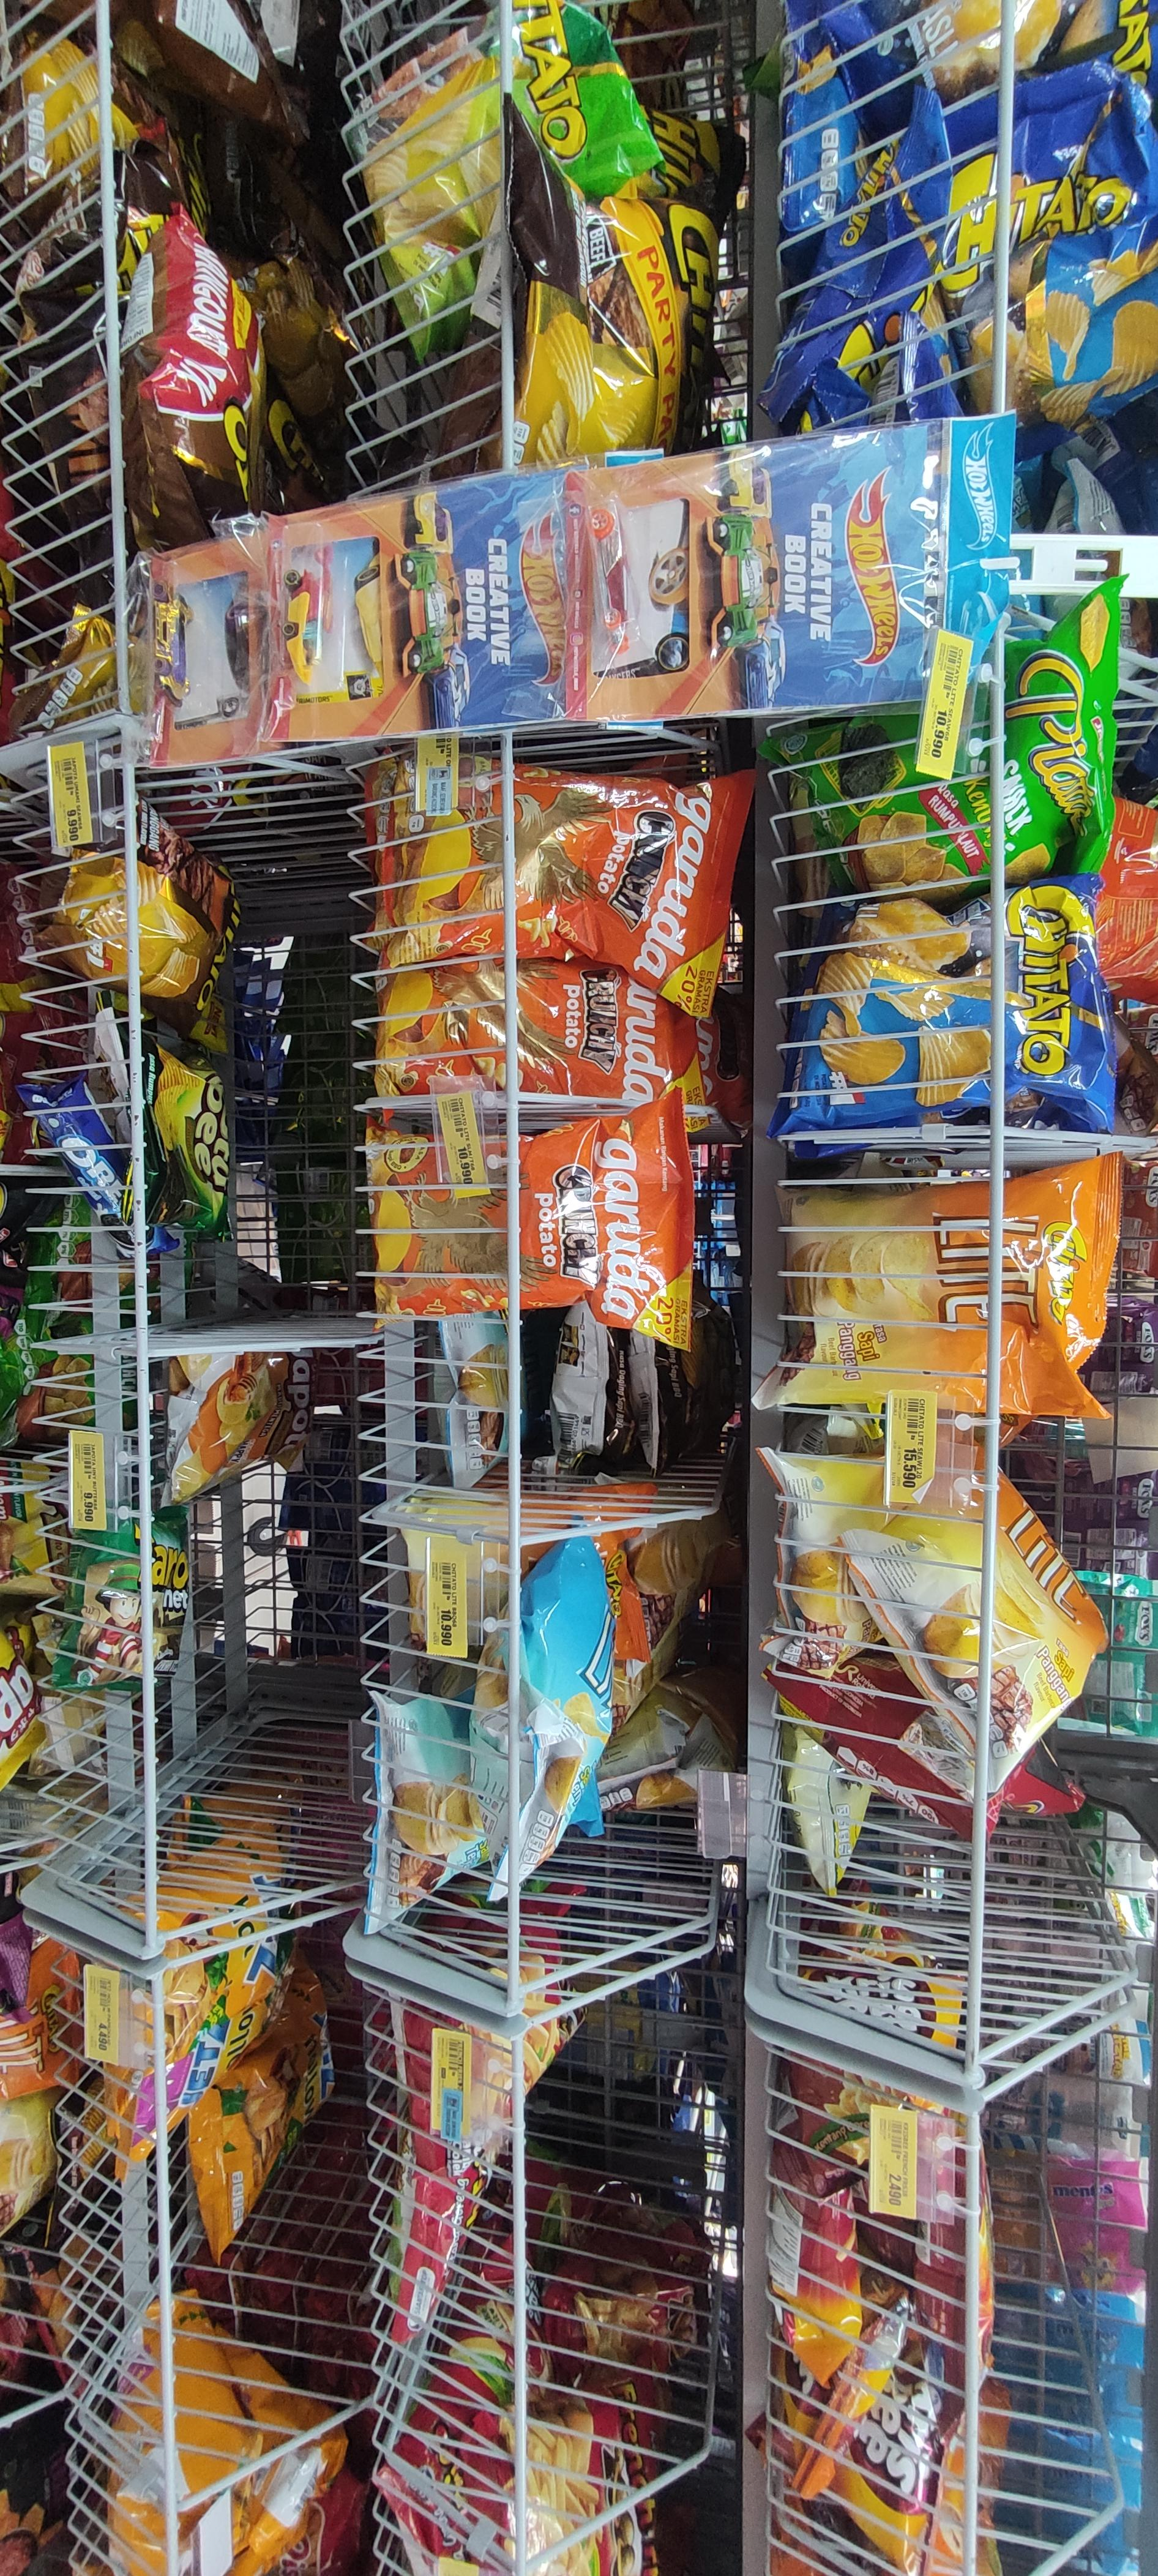90101154205100: (376, 764, 734, 1010), (366, 1092, 687, 1345)
ChitatoLiteSapiPanggang: (772, 1157, 1117, 1419)
ChitatoOriginalFlavor: (770, 881, 1115, 1127)
